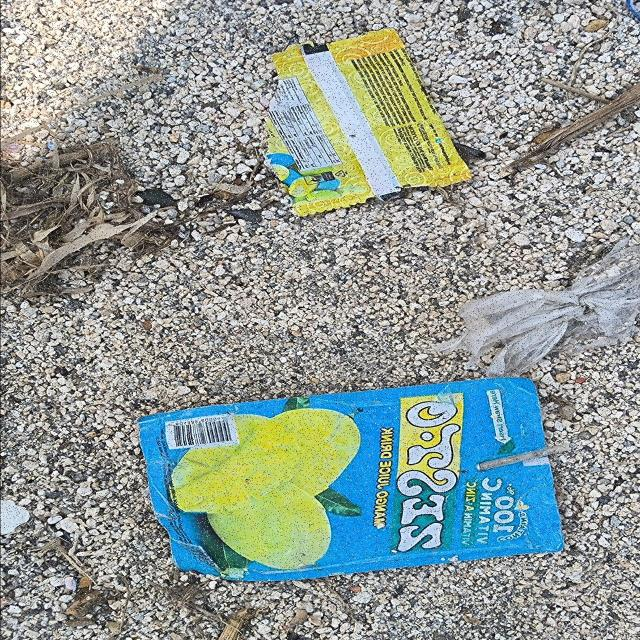plastic_waste: (139, 378, 564, 585), (259, 29, 474, 216)
